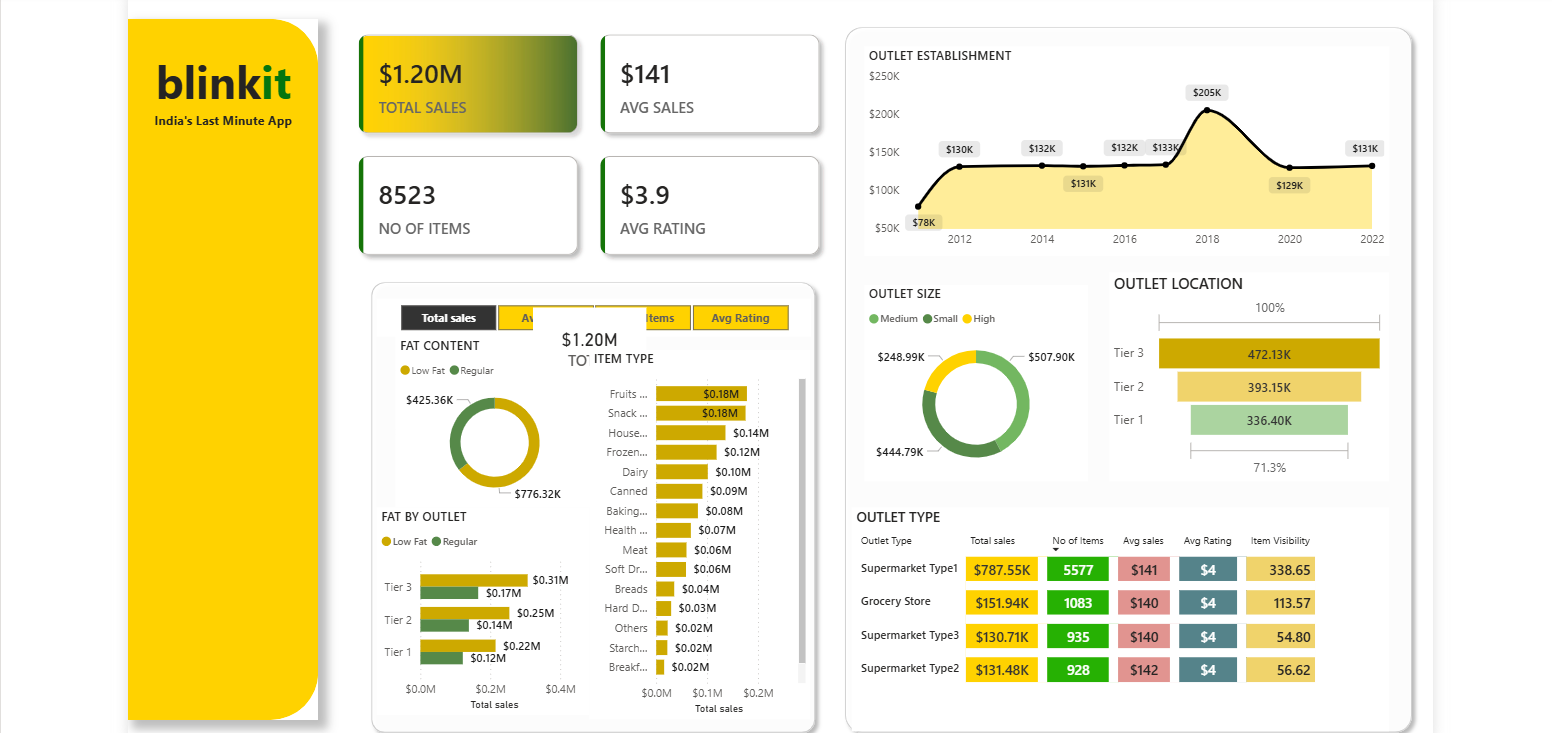

What the dashboard file says about the page in this screenshot:
{"tool":"powerbi","page":{"name":"Page 1","canvas":[1400,800],"ordinal":0},"visuals":[{"type":"shape","box":[0,25.5,204.1,751.9],"z":0},{"type":"textbox","box":[10.5,55.5,183.1,76.5],"z":1000},{"type":"textbox","box":[252,26,204,752],"z":2000},{"type":"textbox","box":[10.5,120.1,183.1,31.5],"z":3000},{"type":"cardVisual","fields":{"Data":["BlinkIT Grocery Data.Total sales","BlinkIT Grocery Data.Avg sales","BlinkIT Grocery Data.No of Items","BlinkIT Grocery Data.Avg Rating"]},"box":[231.1,25.5,528.3,270.2],"z":4000},{"type":"shape","box":[252.1,298.7,493.8,501.3],"z":5000},{"type":"donutChart","title":"FAT CONTENT ","fields":{"Y":["BlinkIT Grocery Data.Total sales"],"Category":["BlinkIT Grocery Data.Item Fat Content"]},"box":[286.7,366.2,213.1,183.1],"z":6000},{"type":"slicer","fields":{"Values":["metrics.metrics"]},"box":[267.2,325.7,465.3,40.5],"z":7000},{"type":"cardVisual","fields":{"Data":["BlinkIT Grocery Data.Total sales"]},"box":[433.7,334.7,121.6,91.6],"z":8000},{"type":"clusteredBarChart","title":"FAT BY OUTLET","fields":{"Y":["BlinkIT Grocery Data.Total sales"],"Category":["BlinkIT Grocery Data.Outlet Location Type"],"Series":["BlinkIT Grocery Data.Item Fat Content"]},"box":[267.2,549.3,228.1,222.1],"z":8001},{"type":"barChart","title":"ITEM TYPE","fields":{"Category":["BlinkIT Grocery Data.Item Type"],"Y":["BlinkIT Grocery Data.Total sales"]},"box":[495.3,381.2,237.1,396.2],"z":8002},{"type":"shape","box":[759.4,25.5,625.9,774.4],"z":8003},{"type":"lineChart","title":"OUTLET ESTABLISHMENT ","fields":{"Category":["BlinkIT Grocery Data.Outlet Establishment Year"],"Y":["BlinkIT Grocery Data.Total sales"]},"box":[789.5,55.5,562.8,225.1],"z":8004},{"type":"donutChart","title":"OUTLET SIZE","fields":{"Y":["BlinkIT Grocery Data.Total sales"],"Category":["BlinkIT Grocery Data.Outlet Size"]},"box":[789.5,310.7,240.1,210.1],"z":8005},{"type":"funnel","title":"OUTLET LOCATION","fields":{"Y":["Sum(BlinkIT Grocery Data.Sales)"],"Category":["BlinkIT Grocery Data.Outlet Location Type"]},"box":[1052.1,297.2,300.2,223.6],"z":8006},{"type":"pivotTable","title":"OUTLET TYPE","fields":{"Rows":["BlinkIT Grocery Data.Outlet Type"],"Values":["BlinkIT Grocery Data.Total sales","BlinkIT Grocery Data.No of Items","BlinkIT Grocery Data.Avg sales","BlinkIT Grocery Data.Avg Rating","Sum(BlinkIT Grocery Data.Item Visibility)"]},"box":[775.9,549.3,576.3,240.1],"z":8007}]}

Visuals, with their boxes on the page's 1400x800 design canvas (x1, y1, x2, y2). These are canvas units, not pixel positions in the 1552x733 screenshot, which may show the page scaled, cropped or inside an application window:
shape: box=[0, 26, 204, 777]
textbox: box=[10, 56, 194, 132]
textbox: box=[252, 26, 456, 778]
textbox: box=[10, 120, 194, 152]
cardVisual - BlinkIT Grocery Data.Total sales x BlinkIT Grocery Data.Avg sales: box=[231, 26, 759, 296]
shape: box=[252, 299, 746, 800]
"FAT CONTENT " donutChart: box=[287, 366, 500, 549]
slicer - metrics.metrics: box=[267, 326, 732, 366]
cardVisual - BlinkIT Grocery Data.Total sales: box=[434, 335, 555, 426]
"FAT BY OUTLET" clusteredBarChart: box=[267, 549, 495, 771]
"ITEM TYPE" barChart: box=[495, 381, 732, 777]
shape: box=[759, 26, 1385, 800]
"OUTLET ESTABLISHMENT " lineChart: box=[790, 56, 1352, 281]
"OUTLET SIZE" donutChart: box=[790, 311, 1030, 521]
"OUTLET LOCATION" funnel: box=[1052, 297, 1352, 521]
"OUTLET TYPE" pivotTable: box=[776, 549, 1352, 789]
